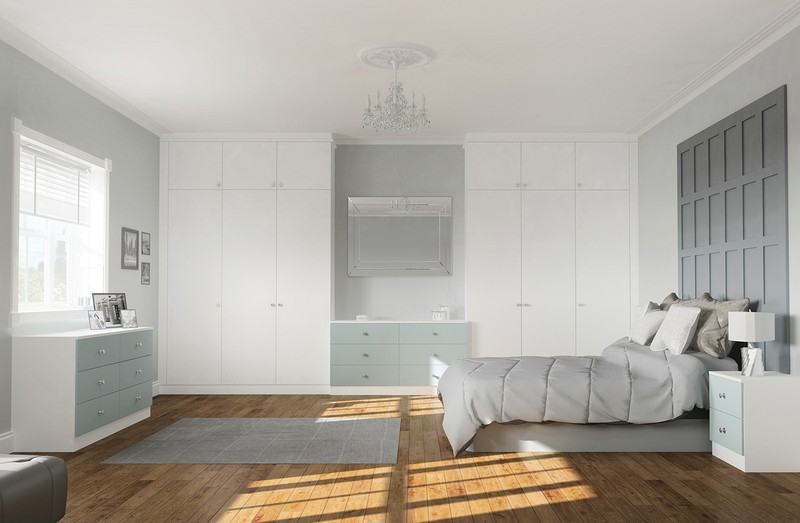bed: (441, 301, 736, 457)
lamp: (725, 306, 778, 381)
stool: (12, 329, 156, 439), (705, 367, 797, 478)
